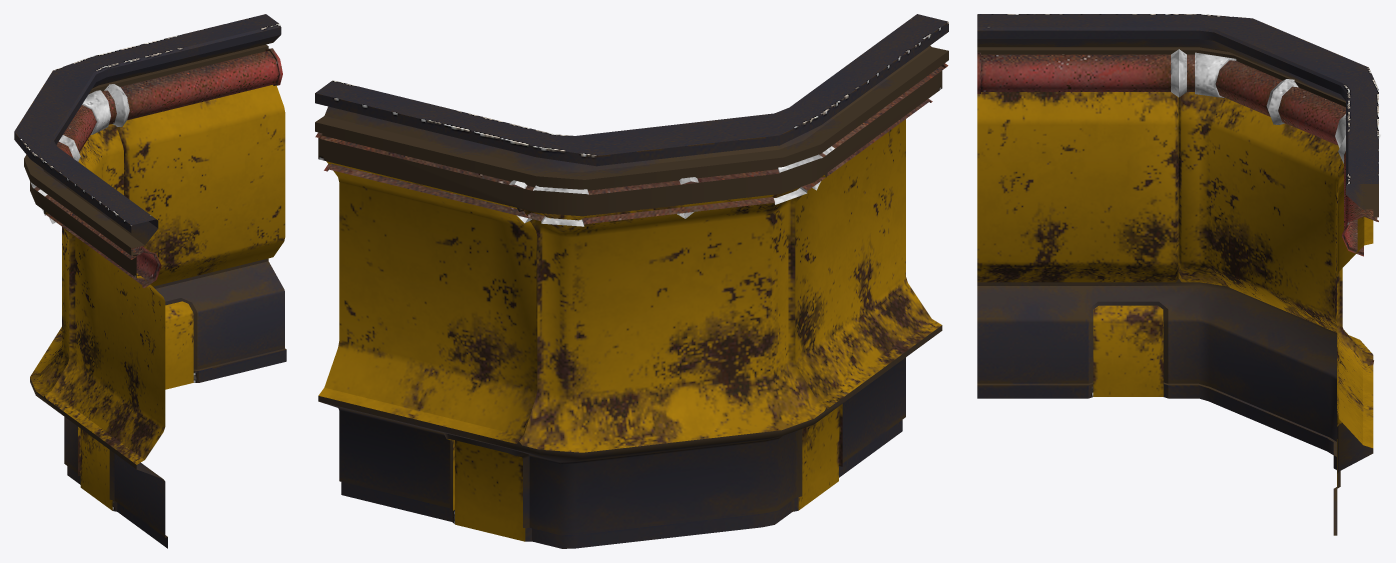
Rendered from Cornerwallfinal.glb.
3 renders of one model, left to right at view 1: azimuth 30°, elevation 25°; view 2: azimuth 150°, elevation 25°; view 3: azimuth 270°, elevation 25°, orthographic. The views are drawn at different scales.
Parts seen in each view (by area): view 1: Cube.004; view 2: Cube.004; view 3: Cube.004.
Boxes of the visible parts, <box> form: Cube.004: <box>14,14,286,548</box>; Cube.004: <box>315,14,948,548</box>; Cube.004: <box>977,14,1380,535</box>.
Bounding box in the file's own units: 4.02 × 4 × 4.01.
Materials: 4 (4 with a texture image).
